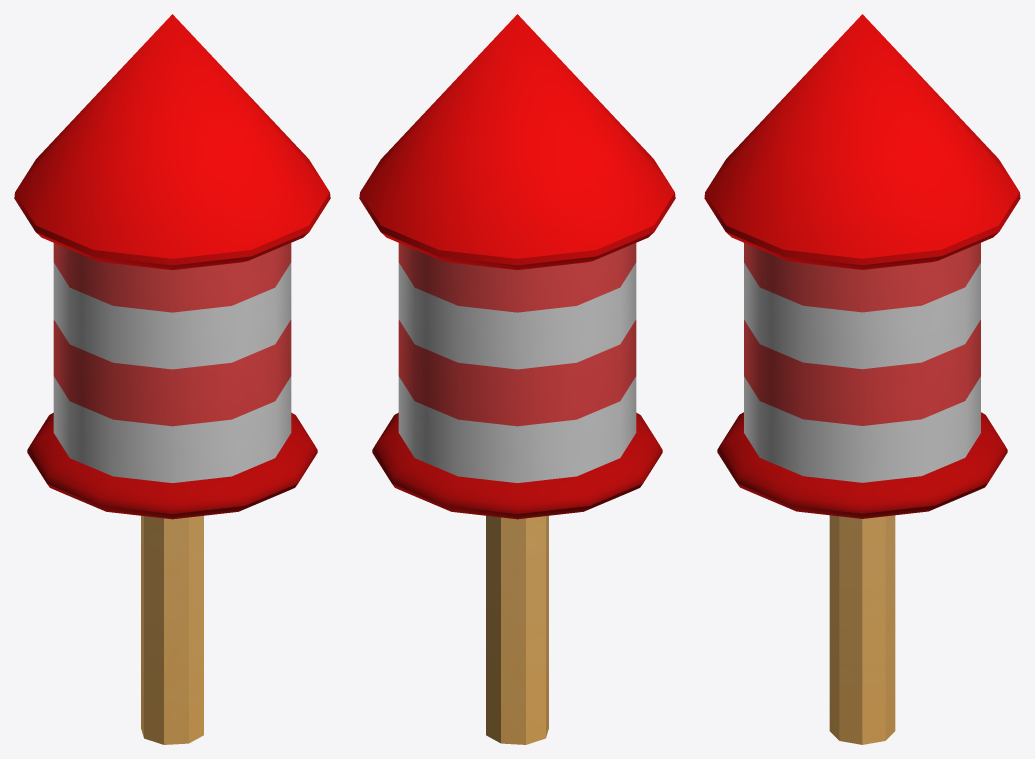
Rendered from firework.fbx.
3 views of the same model, side by side, from view 1: azimuth 30°, elevation 25°; view 2: azimuth 150°, elevation 25°; view 3: azimuth 270°, elevation 25° (orthographic).
Parts seen in each view (by area): view 1: Rocket, Stick; view 2: Rocket, Stick; view 3: Rocket, Stick.
Part boxes in pixels (x1,y1,x2,y2): Rocket: (14, 14, 330, 519); Stick: (141, 515, 203, 744); Rocket: (359, 14, 675, 519); Stick: (486, 515, 548, 744); Rocket: (704, 14, 1020, 518); Stick: (829, 515, 895, 744).
Bounding box in the file's own units: 129 × 322 × 129.
Materials: 1 (1 with a texture image).
